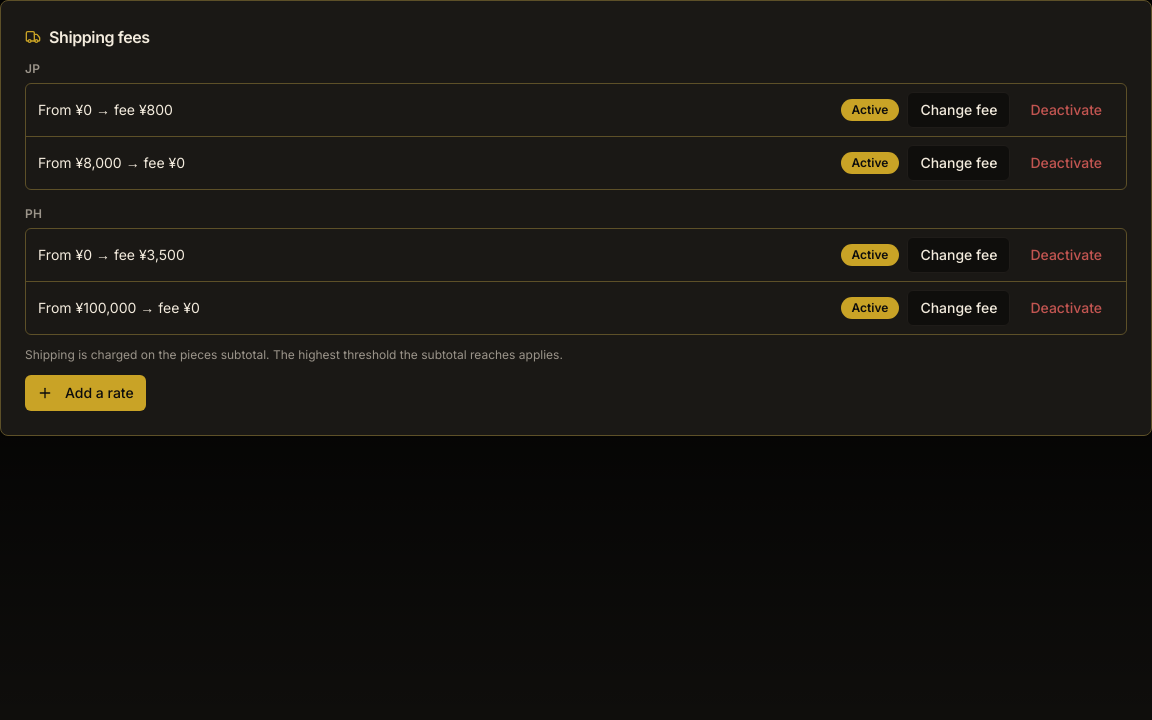
Test: ShippingFeesCard › lists the rates by country with the note, and changes a fee through the RPC after a confirm
Later steps or results of the test are not shown.
Check: the text "From ¥8,000 → fee ¥0" is shown, box left=38, top=153, right=185, bottom=173
Check: the text with test id "shipping-fees-note" shows "Shipping is charged on the pieces subtotal. The highest threshold the subtotal reaches applies.", box left=25, top=347, right=563, bottom=362
Click the button "Change fee" in the row of "From ¥0 → fee ¥800". click: (959, 110)
box: left=907, top=92, right=1010, bottom=128
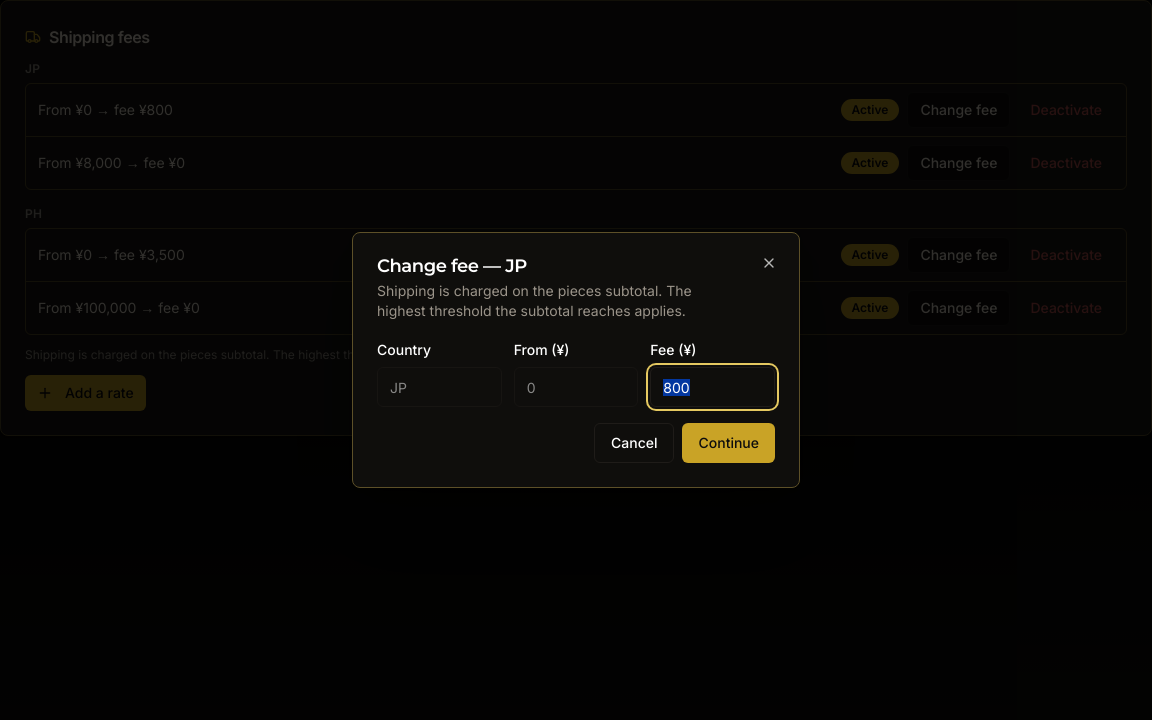
Type "900" into the field labelled "Fee (¥)". click: (713, 387)
box: left=650, top=367, right=775, bottom=407
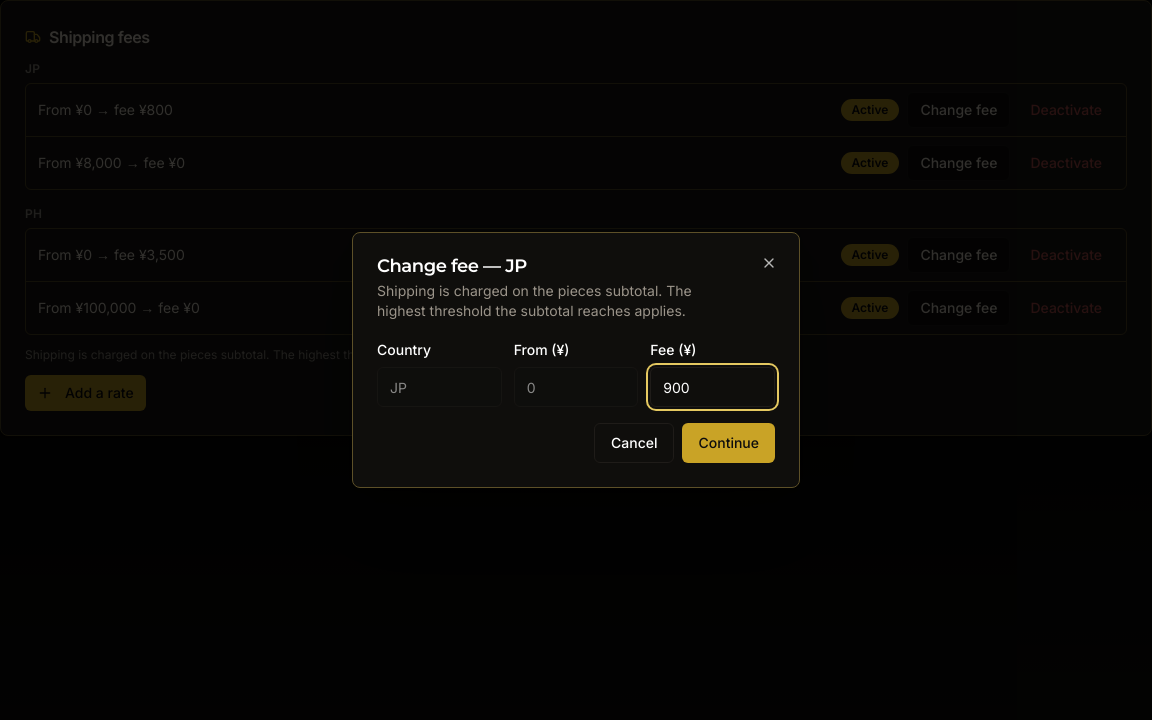
Click the button "Continue". click: (729, 443)
box: left=682, top=423, right=775, bottom=463
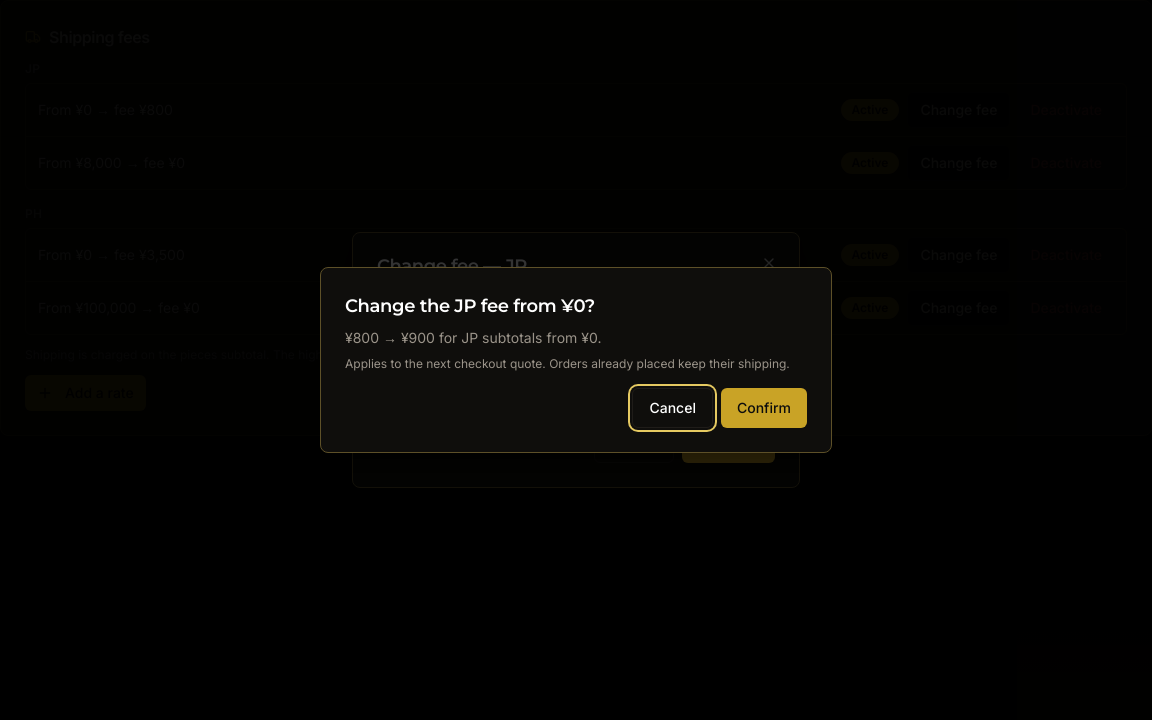
Check: the element with test id "shipping-rate-confirm" shows "¥800 → ¥900 for JP subtotals from ¥0.", box left=345, top=329, right=602, bottom=346
